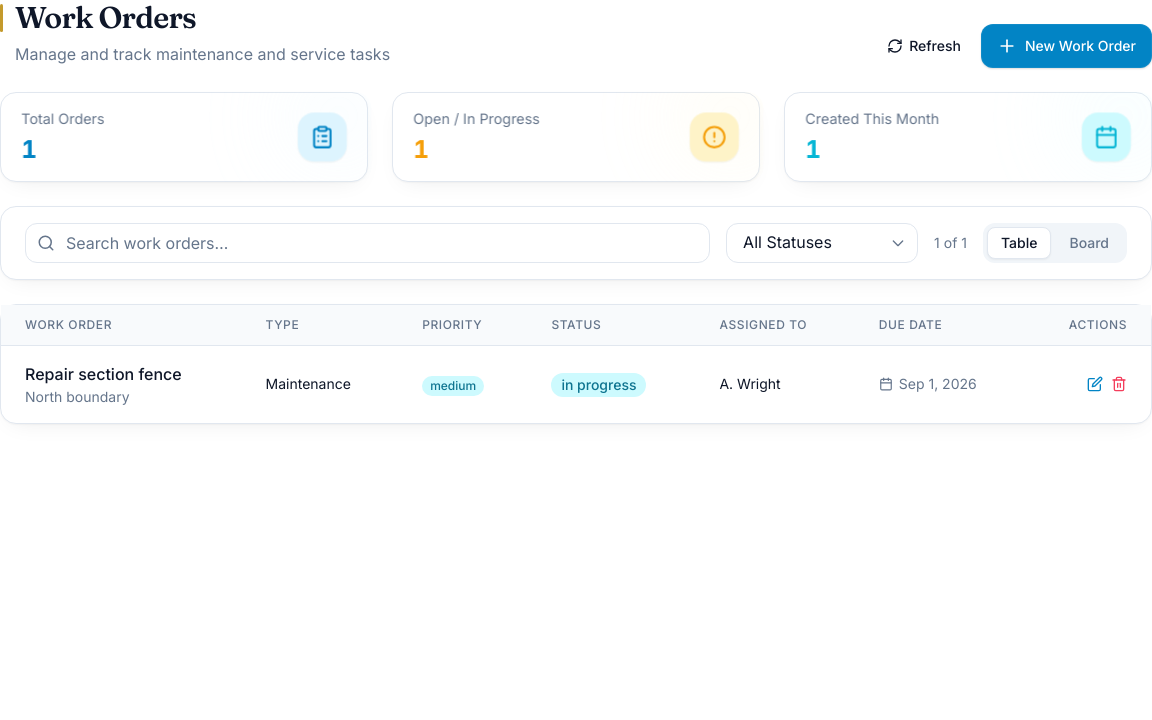
Test case: WorkOrders — every documented status is reachable › offers a status control when editing an existing work order
The image size is (1152, 720).
Click the button named "Edit". click: (1095, 384)
box: top-left (1087, 362), bottom-right (1103, 406)
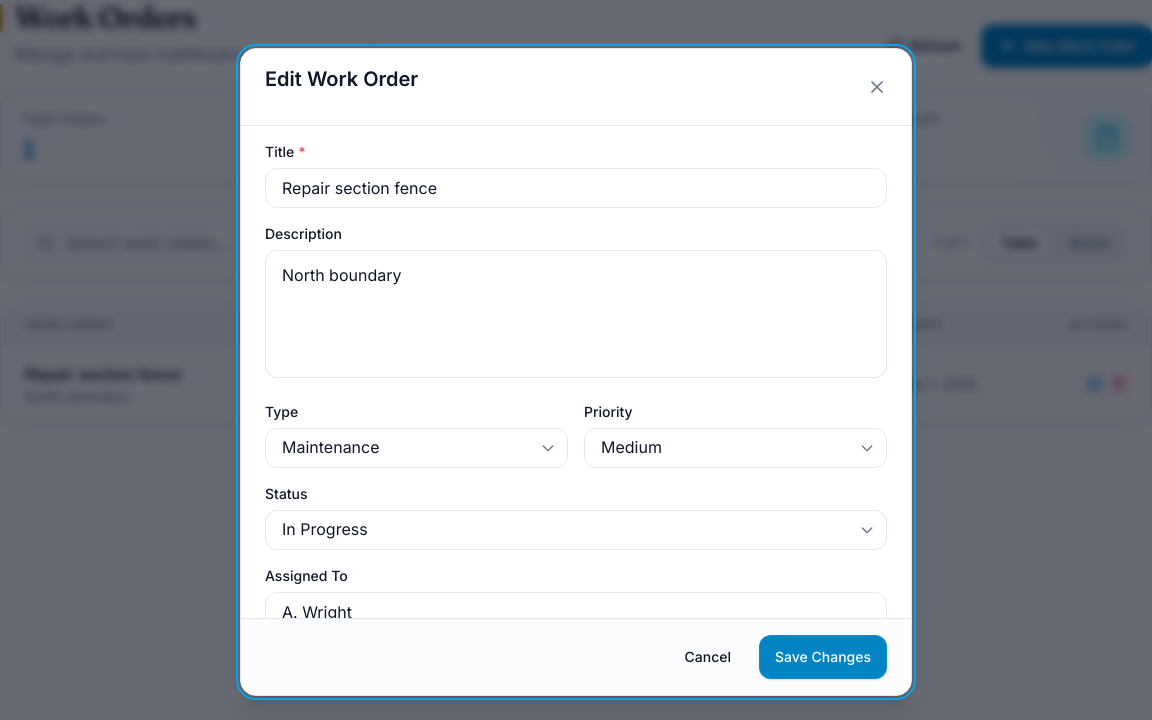
Expected: the dialog is shown, top-left (240, 48), bottom-right (912, 696)
Expected: the dropdown labelled "Status" is shown, top-left (265, 510), bottom-right (887, 550)
